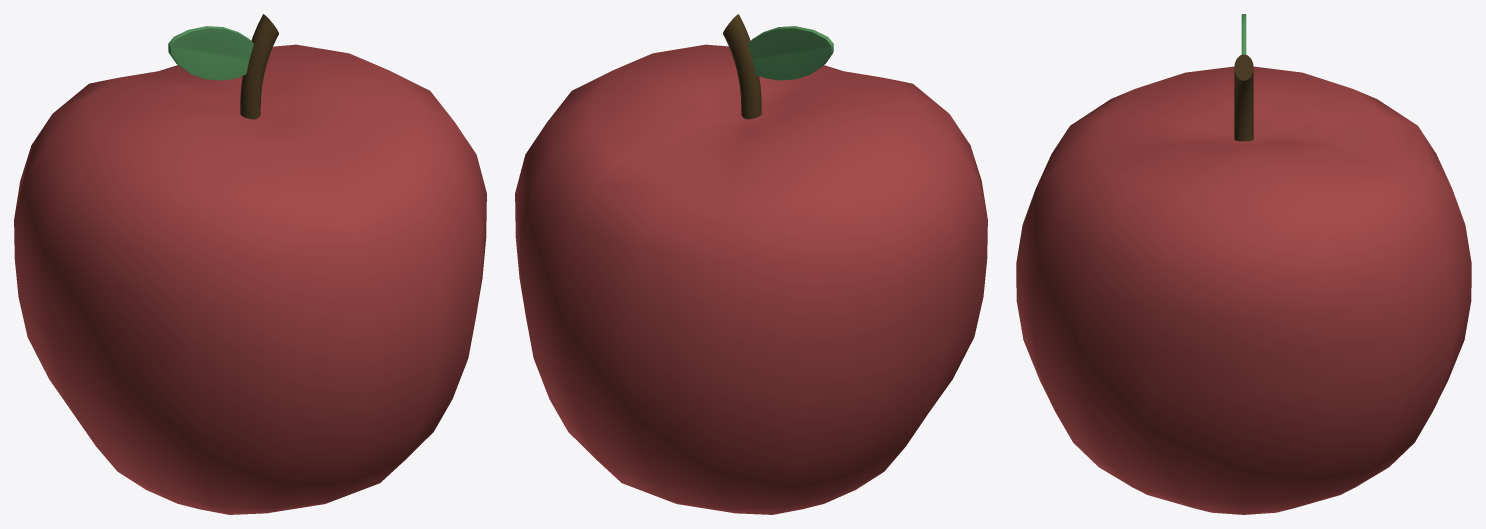
File: apple.fbx
The picture shows the model from 3 angles, left to right: view 1: azimuth 30°, elevation 25°; view 2: azimuth 150°, elevation 25°; view 3: azimuth 270°, elevation 25°; orthographic projection. The views are drawn at different scales.
Parts seen in each view (by area): view 1: appleFlesh, appleLeaf, appleStemMesh; view 2: appleFlesh, appleLeaf, appleStemMesh; view 3: appleFlesh, appleStemMesh.
Boxes of the visible parts, bbox=[...] form: appleFlesh: bbox=[14, 44, 486, 514]; appleLeaf: bbox=[168, 26, 253, 80]; appleStemMesh: bbox=[240, 14, 278, 119]; appleFlesh: bbox=[515, 44, 987, 514]; appleLeaf: bbox=[748, 26, 833, 80]; appleStemMesh: bbox=[723, 14, 761, 119]; appleFlesh: bbox=[1016, 66, 1471, 514]; appleStemMesh: bbox=[1234, 54, 1253, 141].
Size of the model in its own units: 4.03 by 4.38 by 4.1.
